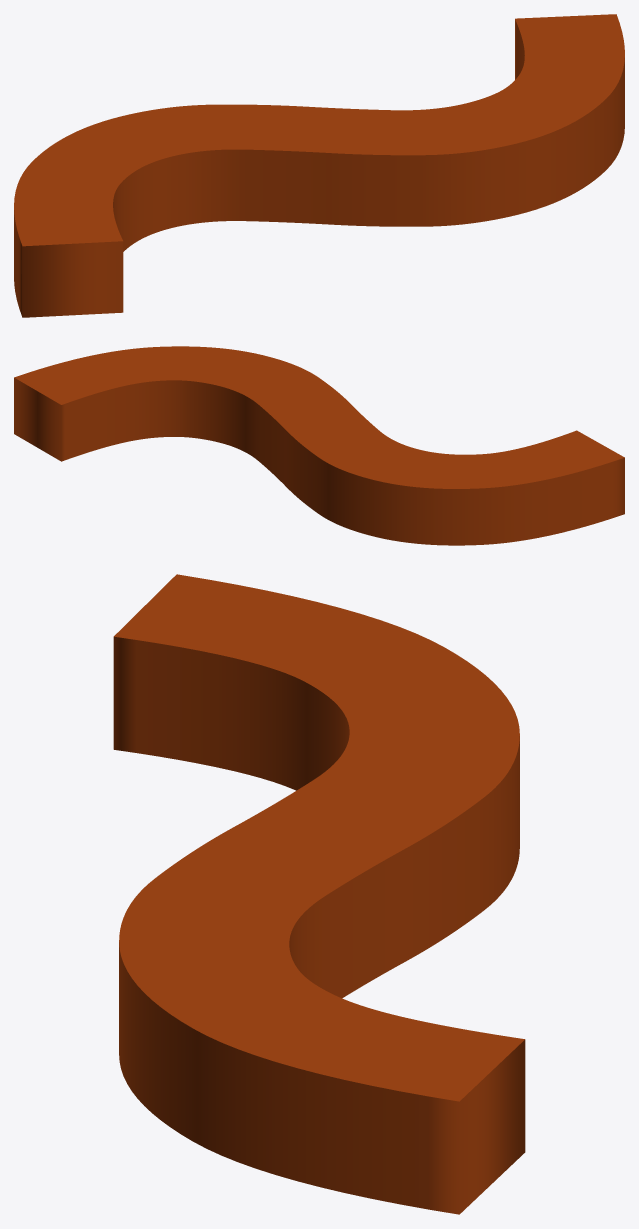
The model's file is tilde.obj.
3 views of the same model, one above another, from view 1: azimuth 30°, elevation 25°; view 2: azimuth 150°, elevation 25°; view 3: azimuth 270°, elevation 25° (orthographic). The views are drawn at different scales.
Visible parts, largest first — view 1: Text; view 2: Text; view 3: Text.
Part boxes in pixels (x1,y1,x2,y2): Text: (14,14,624,317); Text: (14,346,624,545); Text: (113,574,525,1214).
Bounding box in the file's own units: 1 × 0.1 × 0.33.
